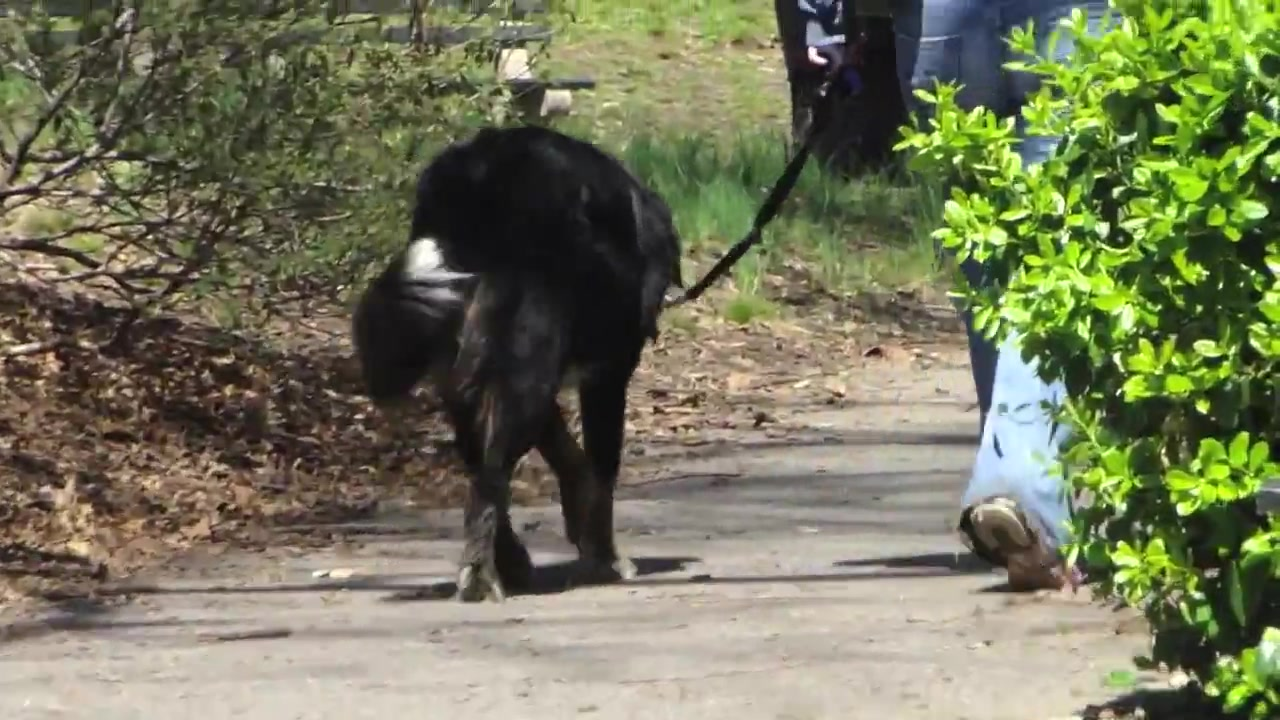dog: (348, 124, 686, 606)
